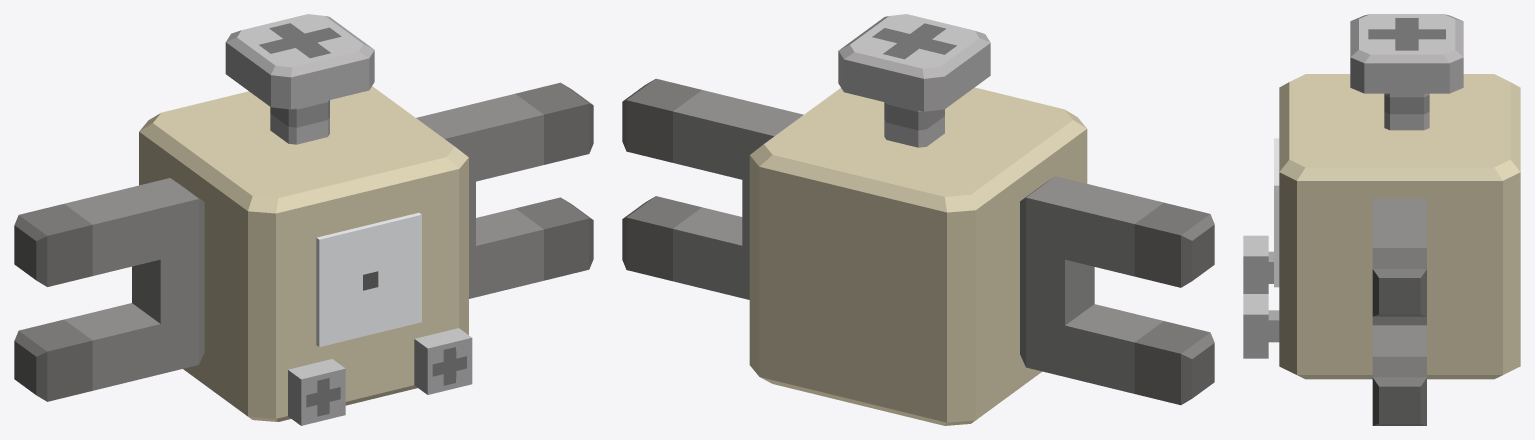
File: model_shiny.obj
3 renders of one model, left to right at view 1: azimuth 30°, elevation 25°; view 2: azimuth 150°, elevation 25°; view 3: azimuth 270°, elevation 25°, orthographic. The views are drawn at different scales.
Visible parts, largest first — view 1: 0081_magnemite_shiny; view 2: 0081_magnemite_shiny; view 3: 0081_magnemite_shiny.
Part boxes in pixels (x1,y1,x2,y2): 0081_magnemite_shiny: (14, 14, 593, 425); 0081_magnemite_shiny: (622, 14, 1214, 425); 0081_magnemite_shiny: (1243, 14, 1520, 425).
Bounding box in the file's own units: 2.33 × 1.26 × 1.06.
Materials: 1 (1 with a texture image).
